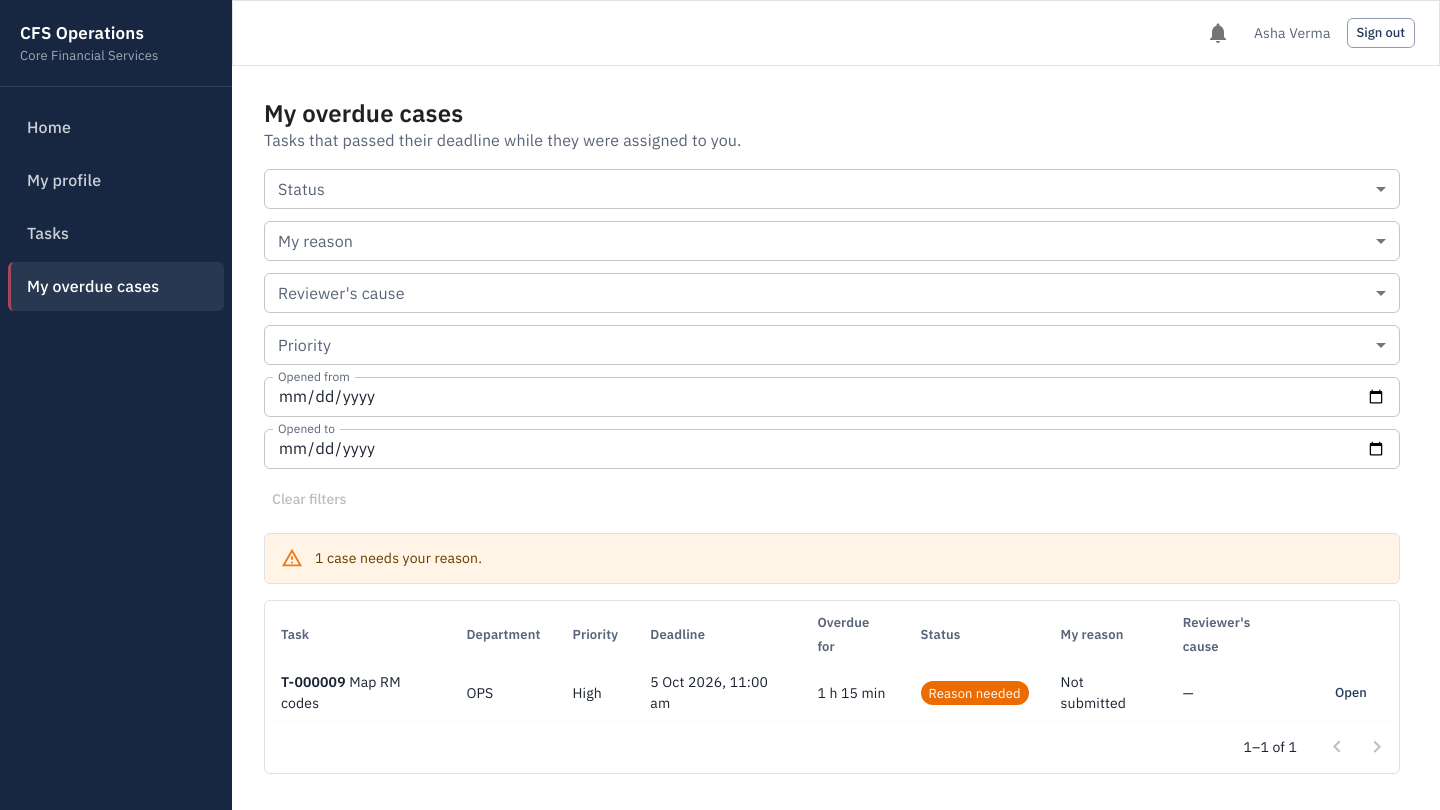
Test: My overdue cases › opens the case detail
Click the button "Open" at (1351, 693), box x1=1319 y1=678 x2=1383 y2=709
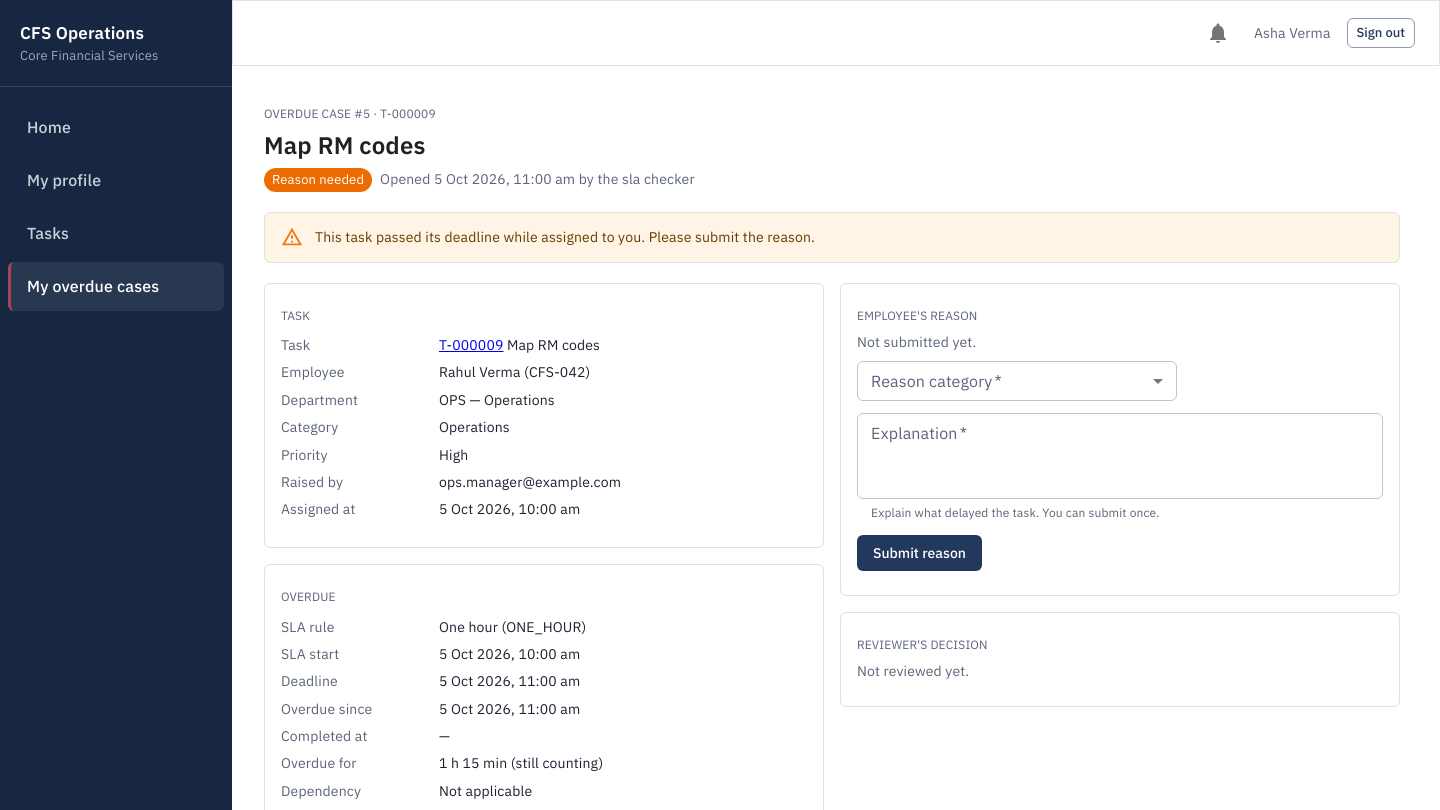
Expected: the heading "Map RM codes" is shown, x1=264 y1=129 x2=426 y2=161
Expected: the text "Overdue case #5 · T-000009" is shown, x1=264 y1=106 x2=436 y2=121
